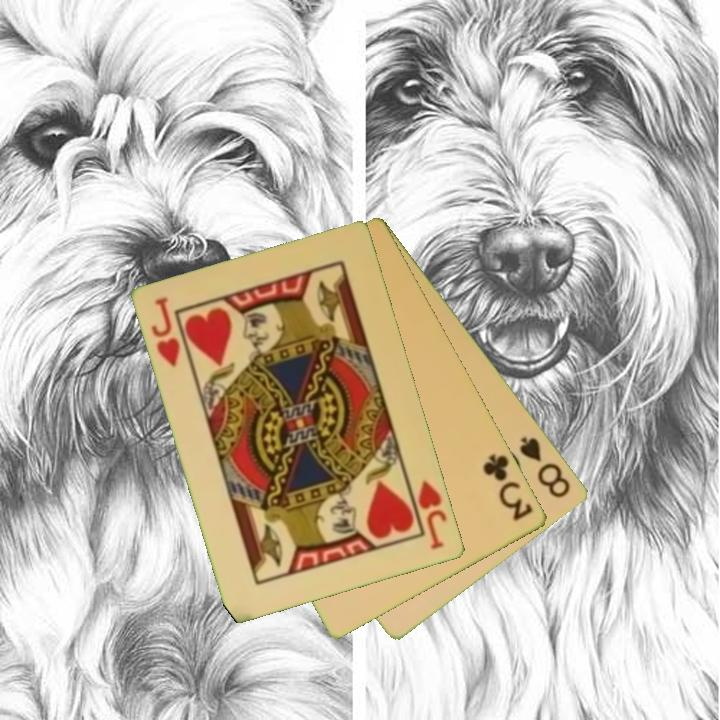3c: (480, 449, 536, 524)
8s: (516, 432, 574, 502)
Jh: (404, 474, 451, 553), (148, 293, 184, 371)
